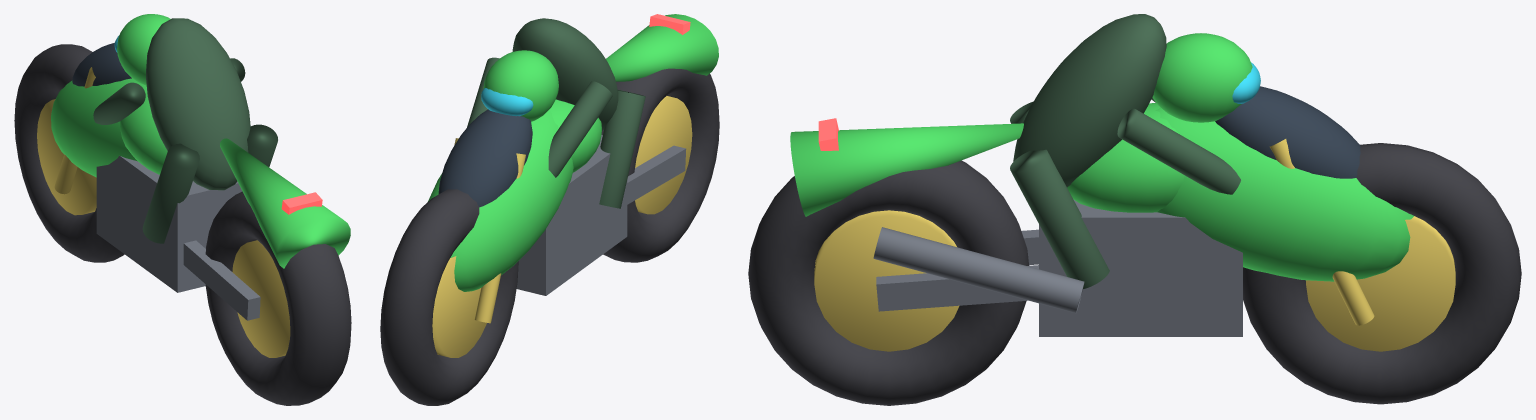
The model's file is moto_rival_2.glb.
3 views of the same model, side by side, from view 1: azimuth 30°, elevation 25°; view 2: azimuth 150°, elevation 25°; view 3: azimuth 270°, elevation 25° (orthographic). The views are drawn at different scales.
Visible parts, largest first — view 1: Neumatico_-0.82, Torso_Piloto, Bloque_Motor, Neumatico_0.82, Colin_Trasero, Carenado_Frontal, Llanta_-0.82, Pierna_-1, Llanta_0.82, Basculante_-1, Deposito_Comb, Casco_Piloto (+5 smaller); view 2: Neumatico_0.82, Neumatico_-0.82, Carenado_Frontal, Bloque_Motor, Cupula_Aero, Torso_Piloto, Colin_Trasero, Llanta_-0.82, Llanta_0.82, Casco_Piloto, Pierna_-1, Brazo_-1 (+6 smaller); view 3: Neumatico_-0.82, Neumatico_0.82, Carenado_Frontal, Bloque_Motor, Torso_Piloto, Llanta_-0.82, Colin_Trasero, Llanta_0.82, Cupula_Aero, Escape_GP, Casco_Piloto, Pierna_1 (+4 smaller).
Part boxes in pixels (x1,y1,x2,y2): Neumatico_-0.82: (205, 191, 351, 405); Torso_Piloto: (146, 18, 250, 190); Bloque_Motor: (96, 155, 242, 292); Neumatico_0.82: (14, 44, 124, 262); Colin_Trasero: (220, 138, 350, 268); Carenado_Frontal: (51, 78, 147, 177); Llanta_-0.82: (232, 240, 290, 357); Pierna_-1: (142, 143, 199, 243); Llanta_0.82: (37, 99, 96, 215); Basculante_-1: (183, 240, 260, 320); Deposito_Comb: (120, 93, 167, 174); Casco_Piloto: (117, 14, 170, 85); Neumatico_0.82: (380, 189, 518, 405); Neumatico_-0.82: (601, 68, 719, 262); Carenado_Frontal: (428, 110, 573, 291); Bloque_Motor: (516, 135, 627, 295); Cupula_Aero: (438, 109, 532, 207); Torso_Piloto: (512, 18, 618, 130); Colin_Trasero: (606, 14, 718, 81); Llanta_-0.82: (635, 96, 692, 214); Llanta_0.82: (432, 256, 486, 357); Casco_Piloto: (483, 50, 558, 121); Pierna_-1: (599, 90, 645, 208); Brazo_-1: (548, 81, 612, 177); Neumatico_-0.82: (748, 160, 1028, 405); Neumatico_0.82: (1243, 143, 1521, 404); Carenado_Frontal: (1155, 107, 1413, 281); Bloque_Motor: (1039, 200, 1242, 336); Torso_Piloto: (1013, 14, 1166, 187); Llanta_-0.82: (814, 210, 959, 351); Colin_Trasero: (790, 123, 1023, 216); Llanta_0.82: (1306, 216, 1455, 351); Cupula_Aero: (1215, 86, 1360, 178); Escape_GP: (873, 227, 1084, 313); Casco_Piloto: (1152, 33, 1252, 122); Pierna_1: (1010, 149, 1109, 288).
Bounding box in the file's own units: 0.6349 × 1.41 × 2.58.
